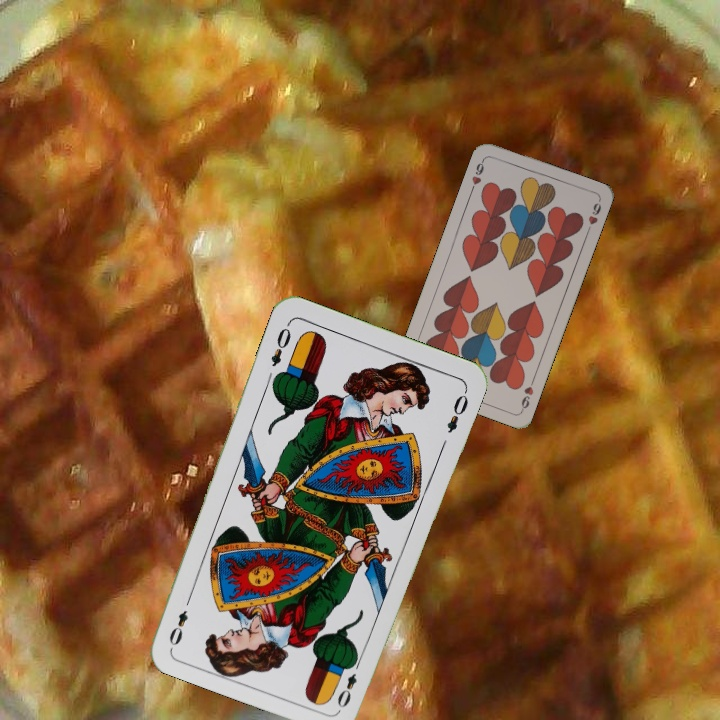EO: (333, 654, 364, 711), (266, 319, 294, 369)
H9: (517, 374, 537, 414), (467, 155, 487, 194)
